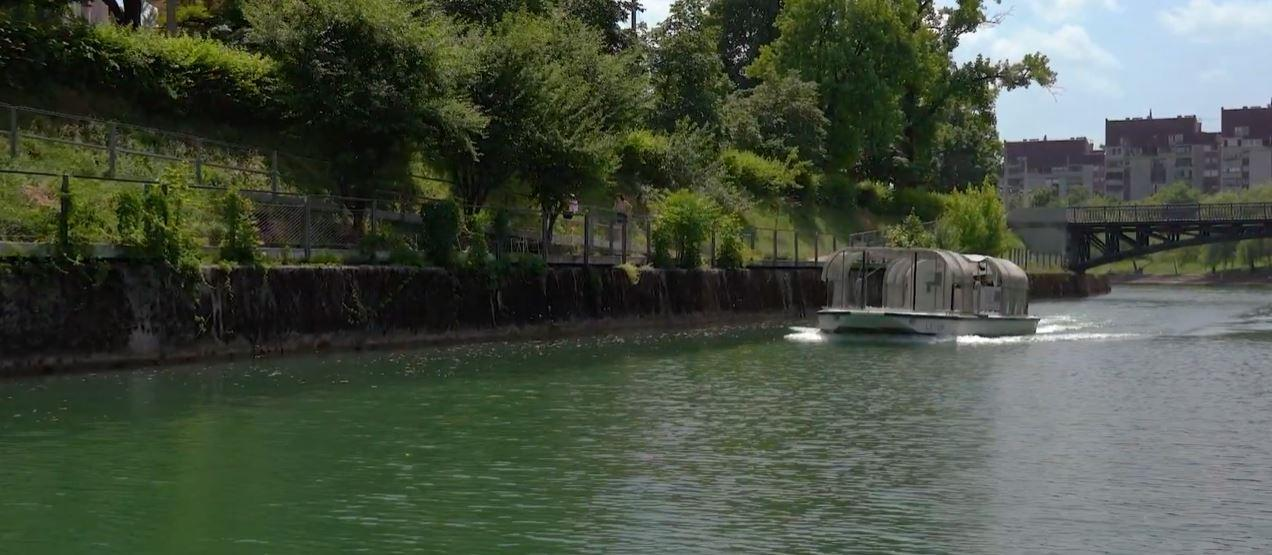Ship: (797, 224, 1063, 349)
